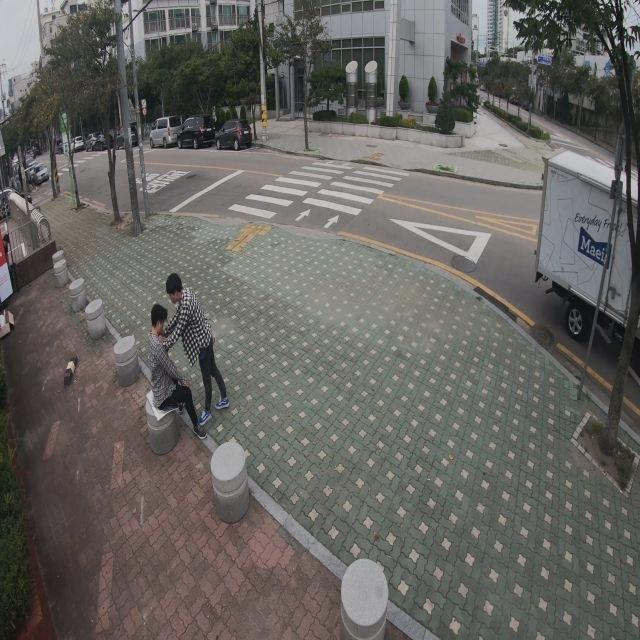fight: (157, 273, 233, 429), (146, 302, 207, 438)
